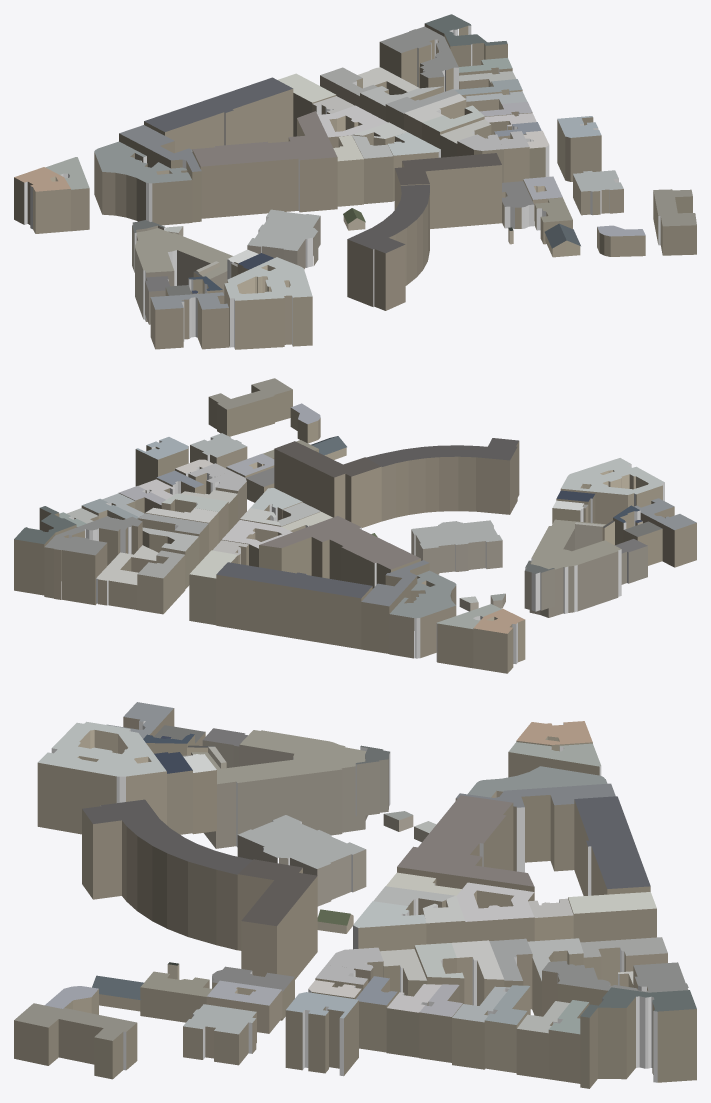
3 views of the same model, one above another, from view 1: azimuth 30°, elevation 25°; view 2: azimuth 150°, elevation 25°; view 3: azimuth 270°, elevation 25° (orthographic). The views are drawn at different scales.
Visible parts, largest first — view 1: tuile; view 2: tuile; view 3: tuile.
Boxes of the visible parts, x1=… form: tuile: x1=14, y1=14, x2=696, y2=349; tuile: x1=14, y1=378, x2=696, y2=673; tuile: x1=14, y1=702, x2=696, y2=1088.
Size of the model in its own units: 283 by 38.33 by 243.
